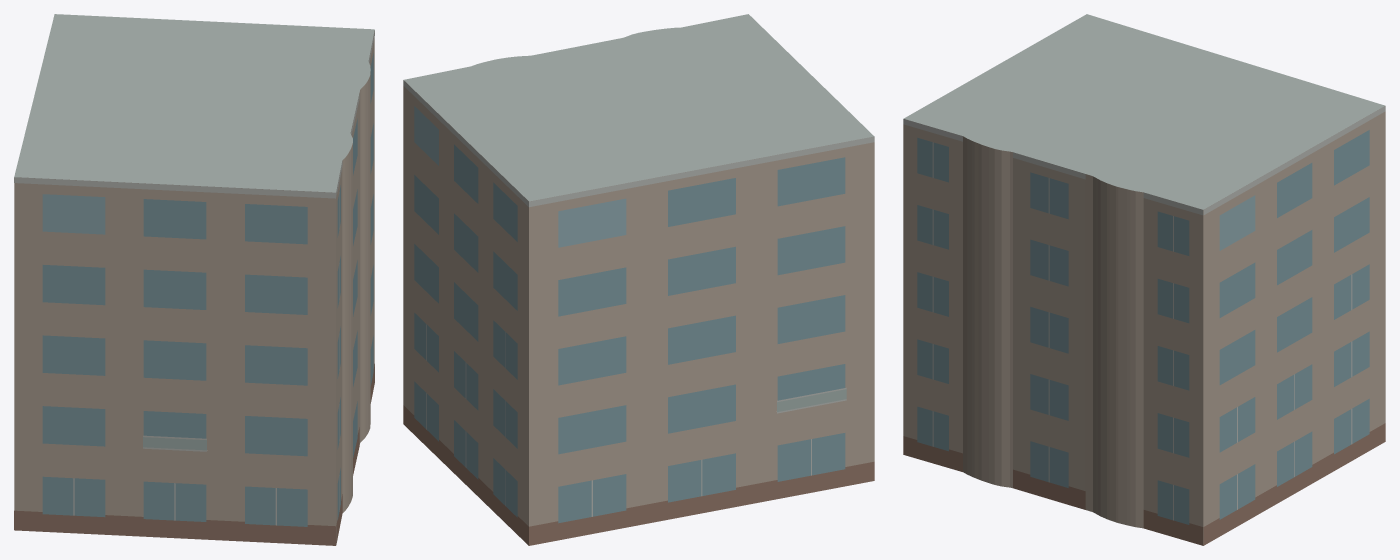
File: survey-upis-33042726.glb
3 views of the same model, side by side, from view 1: azimuth 30°, elevation 25°; view 2: azimuth 150°, elevation 25°; view 3: azimuth 270°, elevation 25° (orthographic). The views are drawn at different scales.
Parts seen in each view (by area): view 1: survey-upis-33042726.tmp; view 2: survey-upis-33042726.tmp; view 3: survey-upis-33042726.tmp.
Part boxes in pixels (left/top/right/bottom): survey-upis-33042726.tmp: left=14, top=14, right=374, bottom=545; survey-upis-33042726.tmp: left=403, top=14, right=874, bottom=545; survey-upis-33042726.tmp: left=903, top=14, right=1385, bottom=545.
Bounding box in the file's own units: 18.26 × 14.6 × 18.99.
